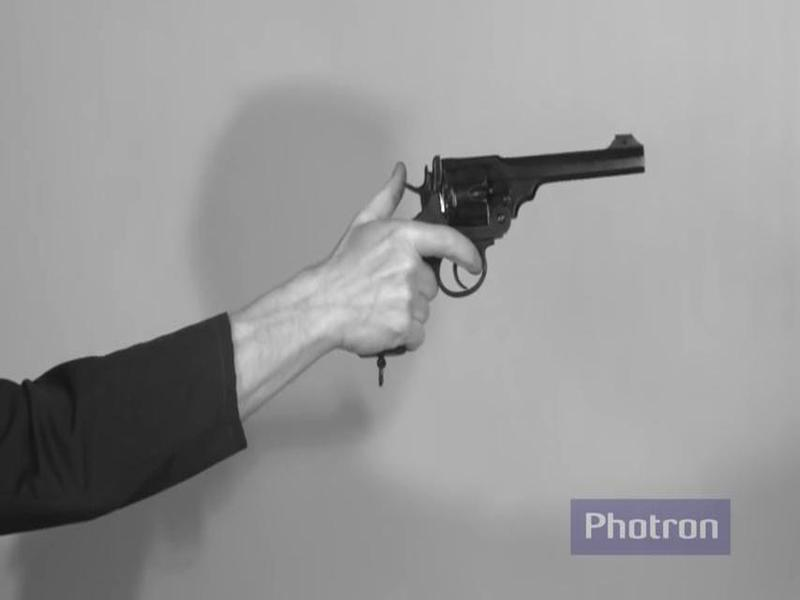Revolver: (377, 105, 659, 318)
